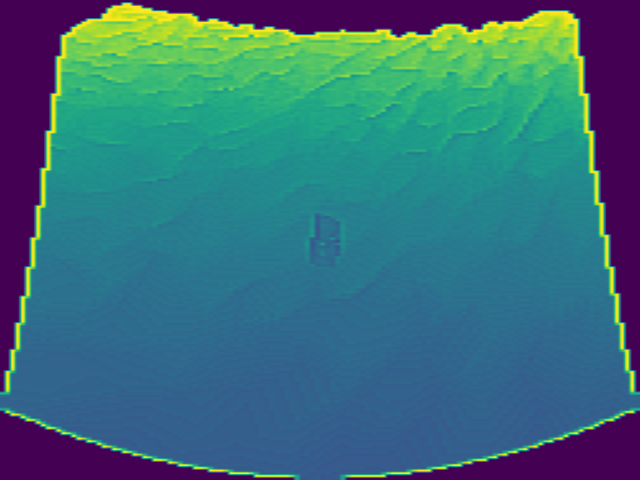car_0198: (305, 211, 344, 270)
